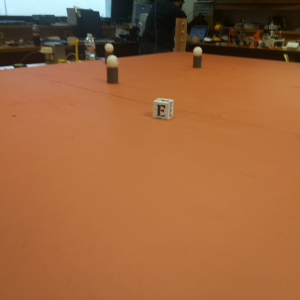obstacle: (106, 56, 121, 86), (191, 48, 205, 70), (105, 43, 114, 53)
